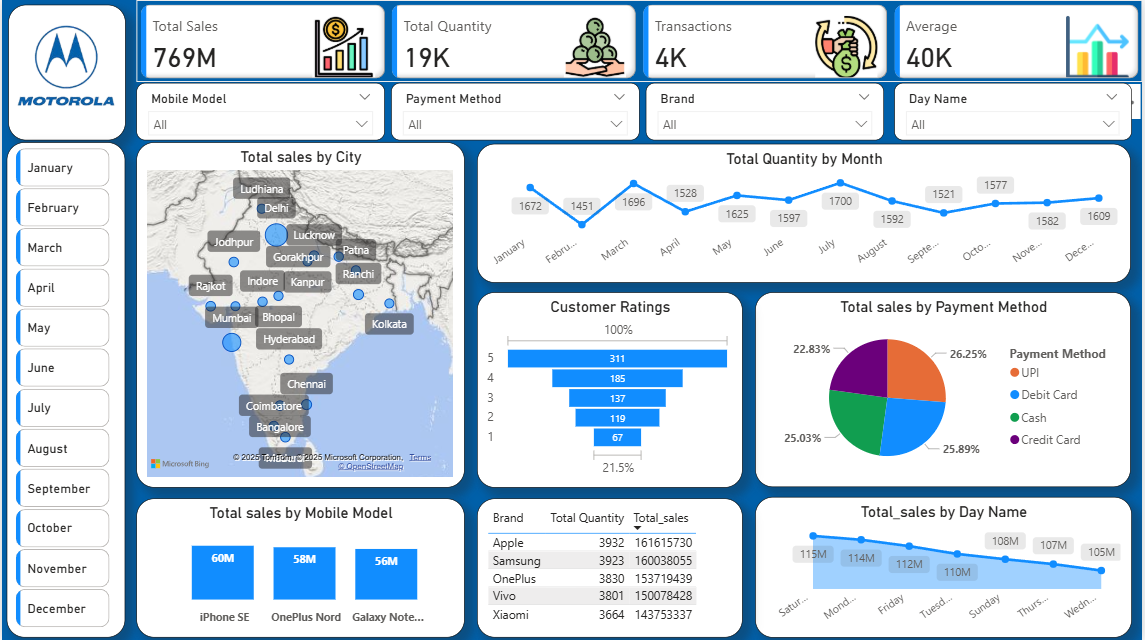

Layout of this report page (visuals, bound fields, positions):
{"tool":"powerbi","page":{"name":"Page 1","canvas":[1280,720],"ordinal":0},"visuals":[{"type":"shape","box":[7,5.3,131.6,152.6],"z":0},{"type":"image","box":[10.5,0,122.8,157.9],"z":1000},{"type":"shape","box":[5.3,159.6,133.3,556.1],"z":2000},{"type":"advancedSlicerVisual","fields":{"Values":["Mobile_sales_data.Data.Variation.Date Hierarchy.Month"]},"box":[10.5,161.4,115.8,557.9],"z":3000},{"type":"cardVisual","fields":{"Data":["Mobile_sales_data.Total_sales","Mobile_sales_data.Total Quantity","Mobile_sales_data.Transactions","Mobile_sales_data.Average"]},"box":[150.8,0,1130.5,93.2],"z":4000},{"type":"map","title":"Total sales by City","fields":{"Category":["Mobile_sales_data.City"],"Size":["Mobile_sales_data.Total_sales"]},"box":[150.9,159.6,368.4,387.7],"z":5000},{"type":"lineChart","fields":{"Category":["Mobile_sales_data.Data.Variation.Date Hierarchy.Month","Mobile_sales_data.Data.Variation.Date Hierarchy.Day"],"Y":["Mobile_sales_data.Total Quantity"]},"box":[533.9,161,733.9,155.9],"z":6000},{"type":"columnChart","title":"Total sales by Mobile Model","fields":{"Category":["Mobile_sales_data.Mobile Model"],"Y":["Mobile_sales_data.Total_sales"]},"box":[150.9,559.6,368.4,156.1],"z":7000},{"type":"pieChart","title":"Total sales by Payment Method","fields":{"Category":["Mobile_sales_data.Payment Method"],"Y":["Mobile_sales_data.Transactions"]},"box":[845.8,328.8,422,218.6],"z":8000},{"type":"funnel","title":"Customer Ratings","fields":{"Category":["Mobile_sales_data.Customer Ratings"],"Y":["CountNonNull(Mobile_sales_data.Customer Ratings)"]},"box":[533.3,328.1,298.2,219.3],"z":9000},{"type":"areaChart","fields":{"Category":["Mobile_sales_data.Day Name"],"Y":["Mobile_sales_data.Total_sales"]},"box":[845.6,557.9,422.8,157.9],"z":10000},{"type":"tableEx","fields":{"Values":["Mobile_sales_data.Brand","Mobile_sales_data.Total Quantity","Mobile_sales_data.Total_sales"]},"box":[533.3,559.6,298.2,156.1],"z":11000},{"type":"slicer","fields":{"Values":["Mobile_sales_data.Mobile Model"]},"box":[150.9,93,278.9,64.9],"z":12000},{"type":"slicer","fields":{"Values":["Mobile_sales_data.Payment Method"]},"box":[436.8,93,278.9,64.9],"z":12002},{"type":"slicer","fields":{"Values":["Mobile_sales_data.Brand"]},"box":[722,93.2,267.8,64.4],"z":12003},{"type":"slicer","fields":{"Values":["Mobile_sales_data.Day Name"]},"box":[1001.8,93,266.7,64.9],"z":12004}]}

Visuals, with their boxes in screenshot pixels (x1, y1, x2, y2), scaled from the page's 1280x720 canvas onto the 1145x640 screenshot:
shape: [6, 5, 124, 140]
image: [9, 0, 119, 140]
shape: [5, 142, 124, 636]
advancedSlicerVisual - Mobile_sales_data.Data.Variation.Date Hierarchy.Month: [9, 143, 113, 639]
cardVisual - Mobile_sales_data.Total_sales x Mobile_sales_data.Total Quantity: [135, 0, 1144, 83]
"Total sales by City" map: [135, 142, 465, 486]
lineChart - Mobile_sales_data.Data.Variation.Date Hierarchy.Month x Mobile_sales_data.Data.Variation.Date Hierarchy.Day: [478, 143, 1134, 282]
"Total sales by Mobile Model" columnChart: [135, 497, 465, 636]
"Total sales by Payment Method" pieChart: [757, 292, 1134, 487]
"Customer Ratings" funnel: [477, 292, 744, 487]
areaChart - Mobile_sales_data.Day Name x Mobile_sales_data.Total_sales: [756, 496, 1135, 636]
tableEx - Mobile_sales_data.Brand x Mobile_sales_data.Total Quantity: [477, 497, 744, 636]
slicer - Mobile_sales_data.Mobile Model: [135, 83, 384, 140]
slicer - Mobile_sales_data.Payment Method: [391, 83, 640, 140]
slicer - Mobile_sales_data.Brand: [646, 83, 885, 140]
slicer - Mobile_sales_data.Day Name: [896, 83, 1135, 140]
